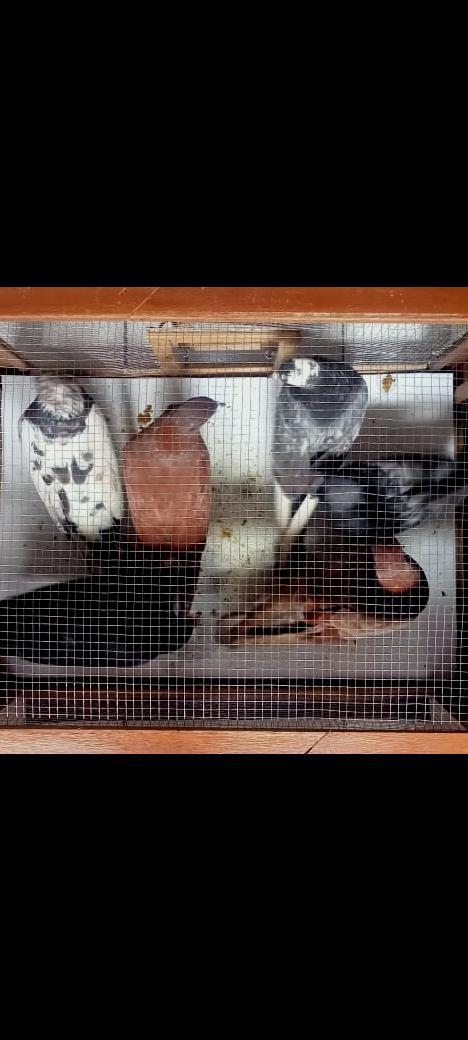Merpati: (216, 532, 429, 647), (18, 368, 133, 578), (266, 355, 371, 578), (121, 395, 225, 616), (318, 404, 468, 536), (0, 571, 202, 668)
